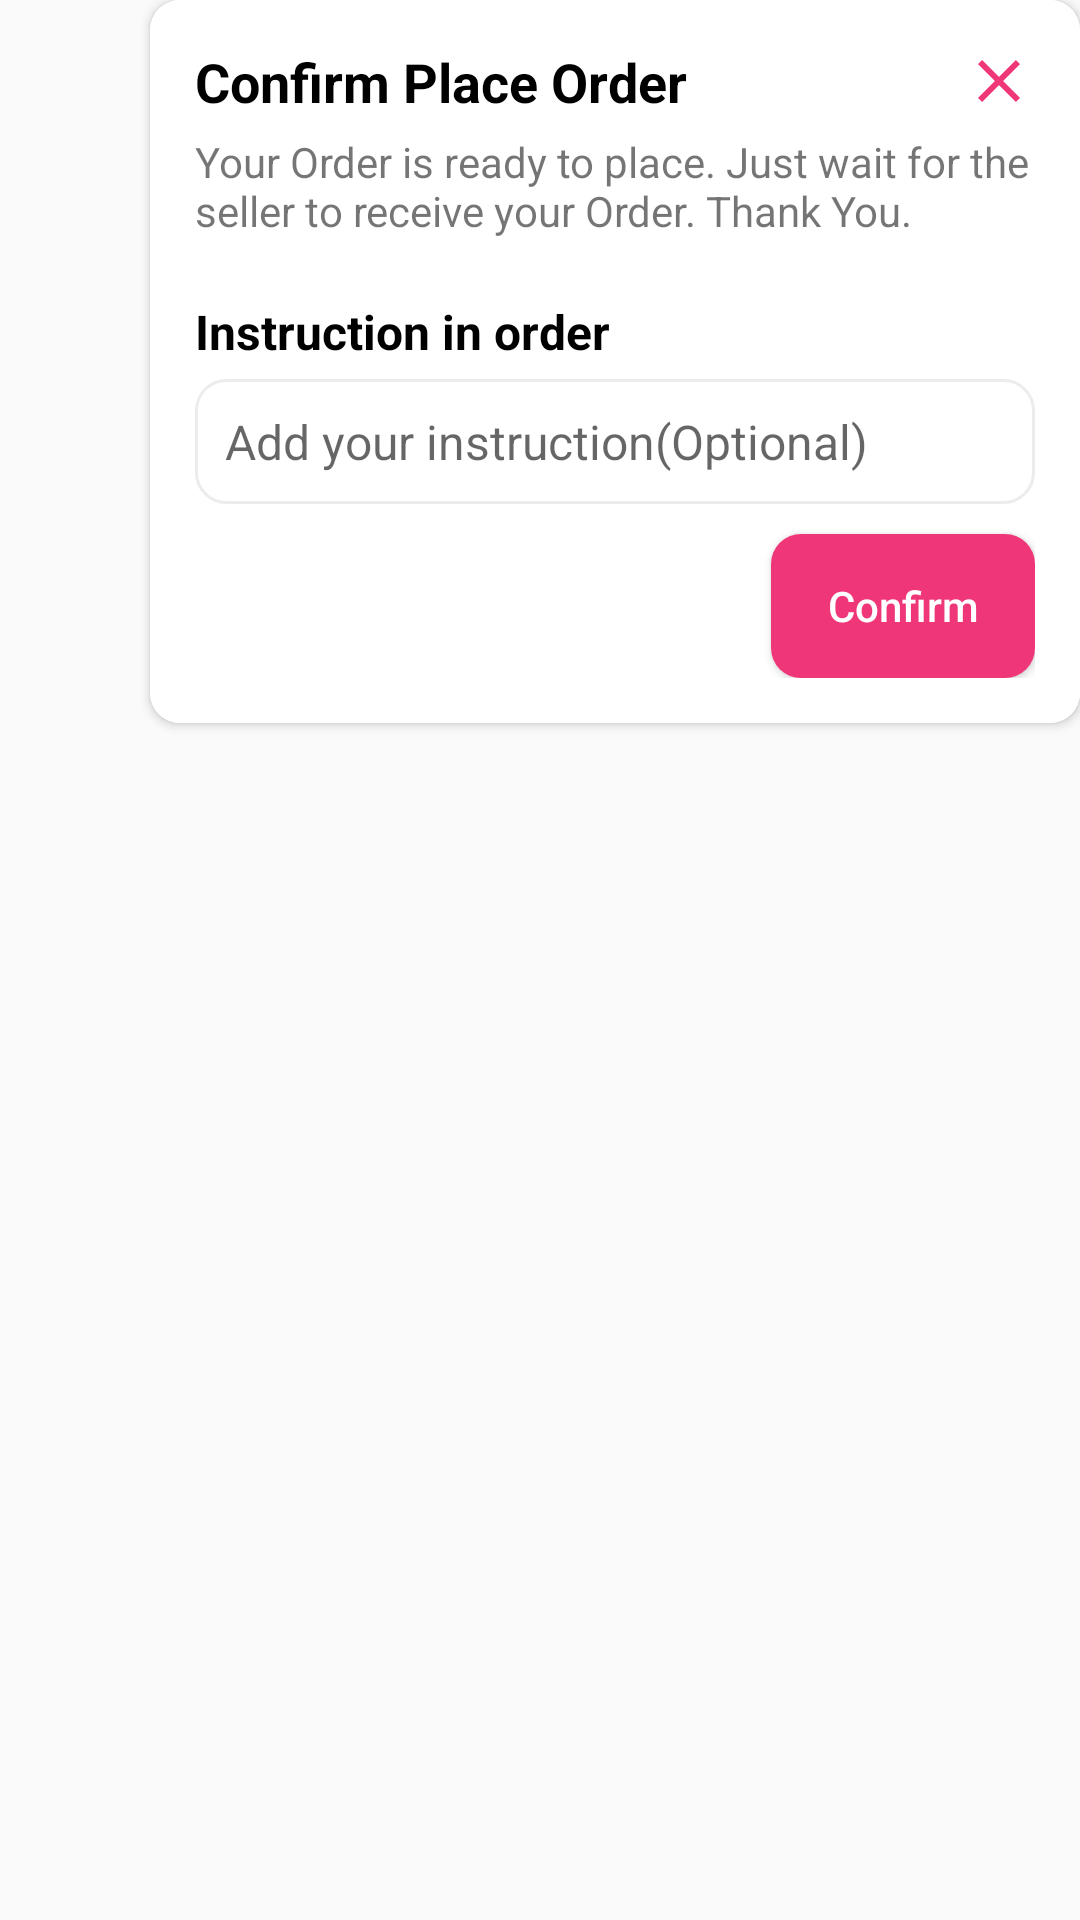

Point at icon controls on the screen. Image size 1080x1920, points as point (x, y).
close: point (999, 81)
